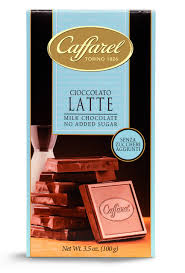Chocolate: (20, 7, 157, 262)
